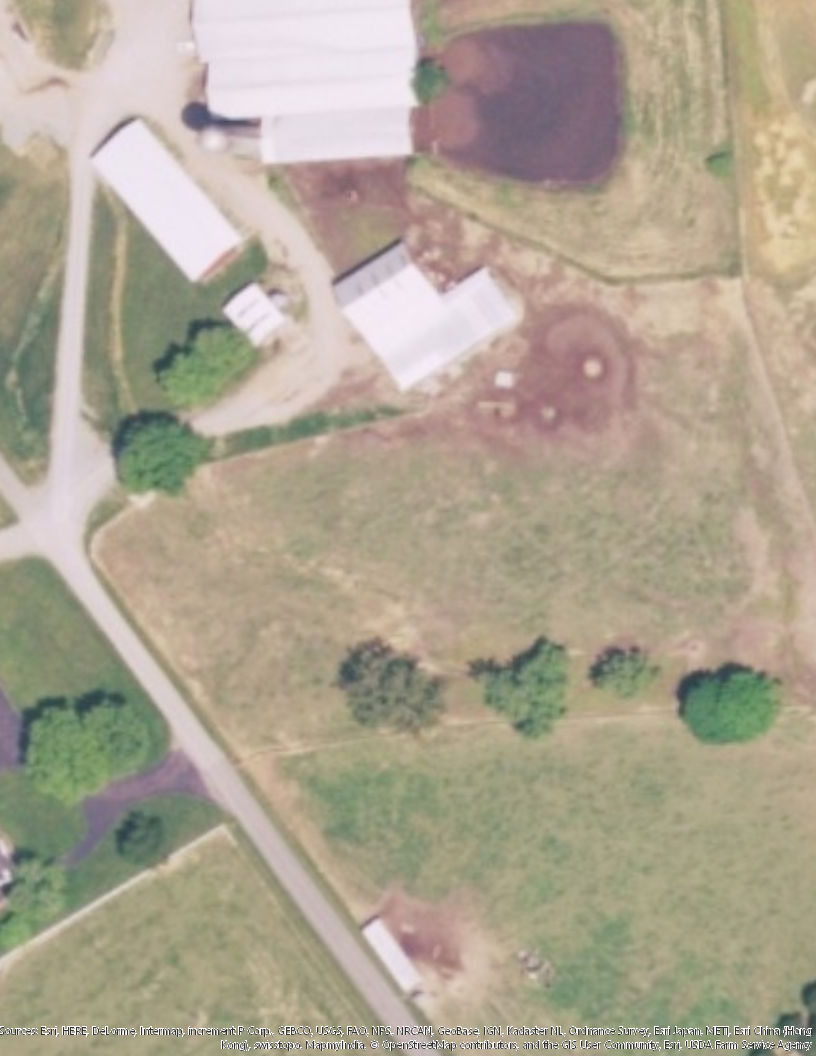cafo: (178, 1, 437, 130), (337, 239, 514, 402), (80, 121, 250, 290)
